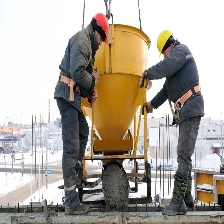helmet: (90, 12, 113, 44), (155, 27, 175, 61)
no-vest: (62, 27, 95, 94), (164, 44, 196, 99)
person: (55, 9, 110, 214), (151, 25, 208, 217)
